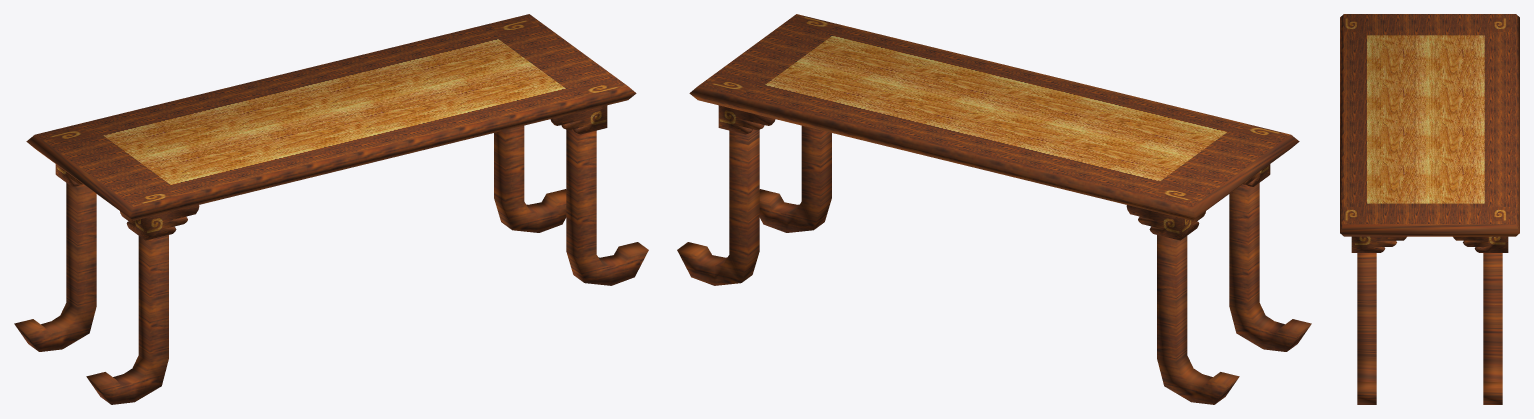
The model's file is table1.fbx.
The picture shows the model from 3 angles, left to right: view 1: azimuth 30°, elevation 25°; view 2: azimuth 150°, elevation 25°; view 3: azimuth 270°, elevation 25°; orthographic projection. The views are drawn at different scales.
Parts seen in each view (by area): view 1: obj1, obj4, obj2, obj3; view 2: obj1, obj4, obj2, obj3; view 3: obj1, obj4, obj3.
Boxes of the visible parts, left/top/right/bottom form: obj1: left=26, top=14, right=636, bottom=220; obj4: left=14, top=125, right=648, bottom=404; obj2: left=55, top=105, right=607, bottom=240; obj3: left=56, top=165, right=144, bottom=239; obj1: left=689, top=14, right=1299, bottom=220; obj4: left=677, top=125, right=1311, bottom=404; obj2: left=718, top=105, right=1270, bottom=240; obj3: left=1181, top=165, right=1269, bottom=239; obj1: left=1340, top=14, right=1519, bottom=236; obj4: left=1357, top=253, right=1502, bottom=404; obj3: left=1353, top=236, right=1506, bottom=252.
Bounding box in the file's own units: 645 × 227 × 209.
Materials: 1 (1 with a texture image).
